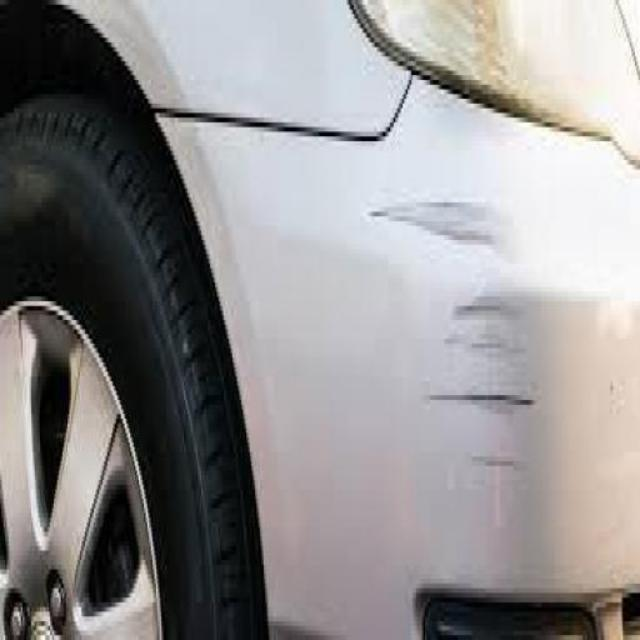crack: (369, 193, 536, 480)
